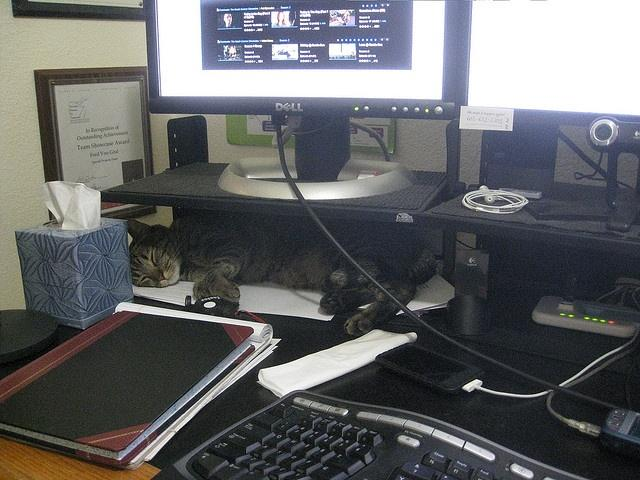AIO PC-Monitor-TV: (141, 0, 459, 120), (454, 0, 639, 128)
